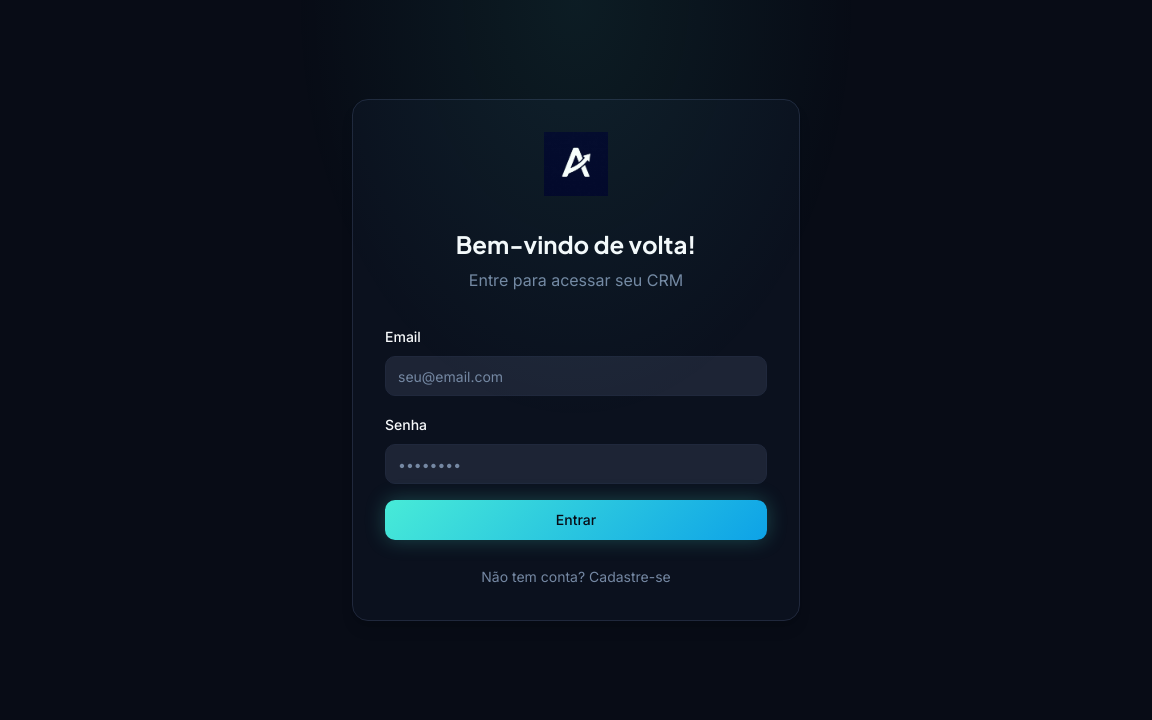
Scenario: Login return to client › keeps the client destination after submitting login
Type "admin@example.test" into the field labelled "Email" at (576, 376), box [385,356,767,396]
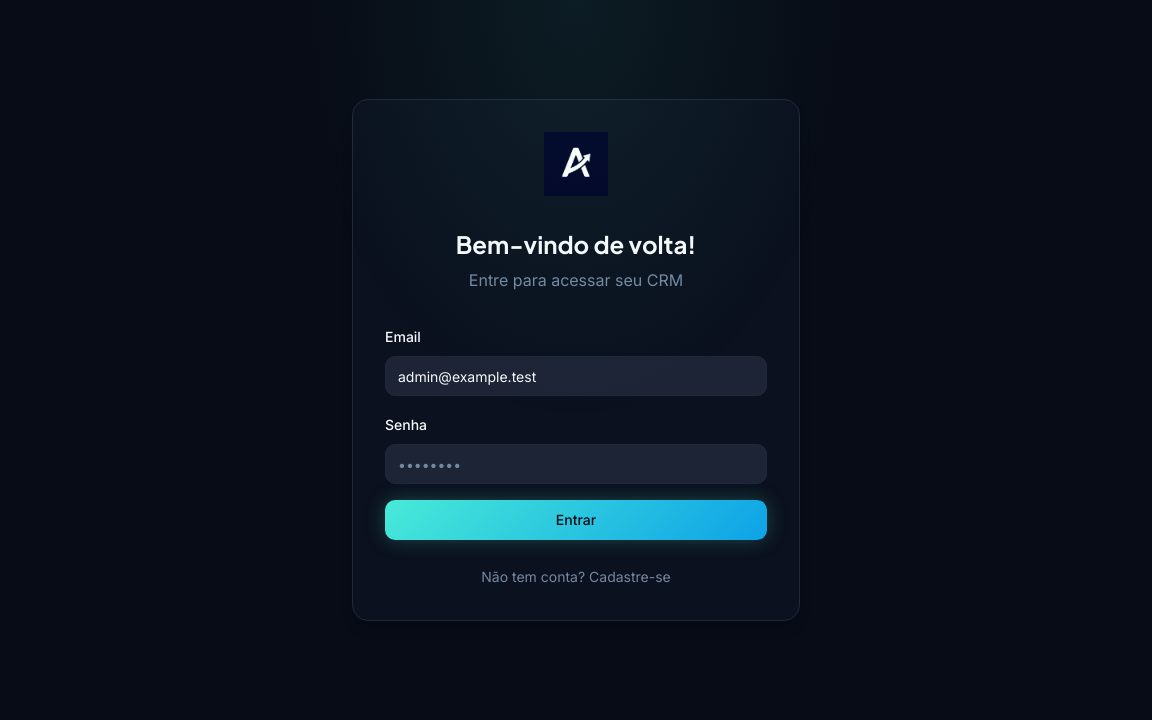
Type "example-password" into the password field labelled "Senha" at (576, 464), box [385,444,767,484]
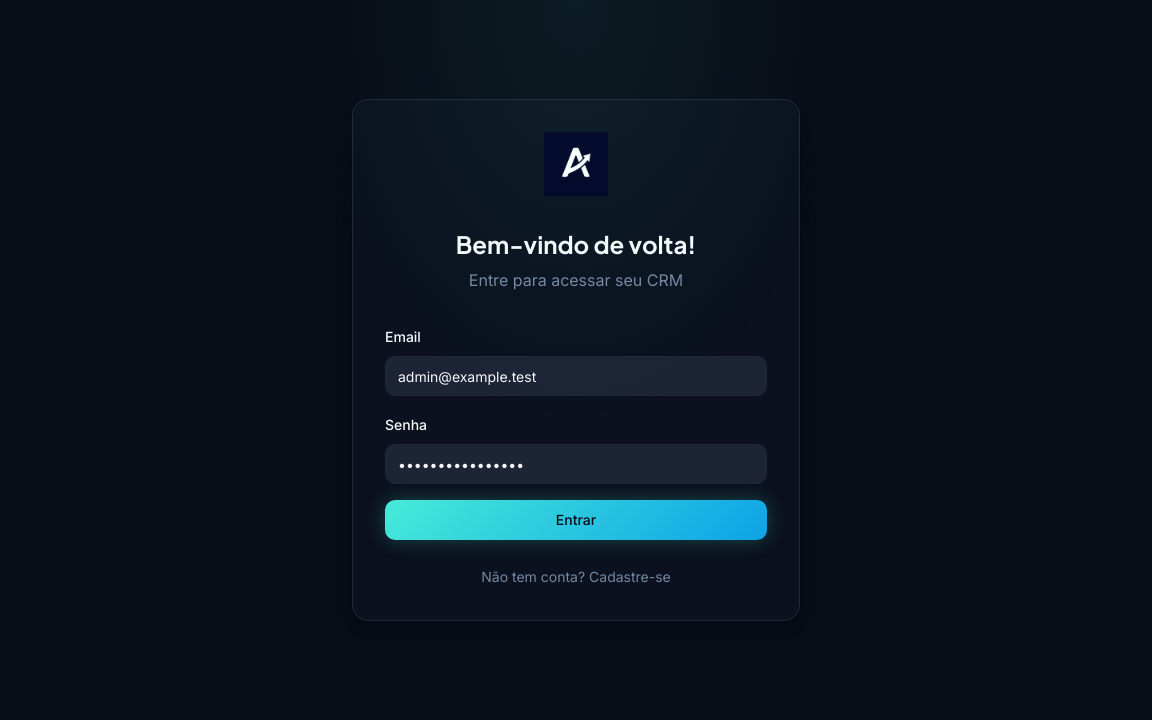
Submit the form labelled "Email", box [385,324,767,540]
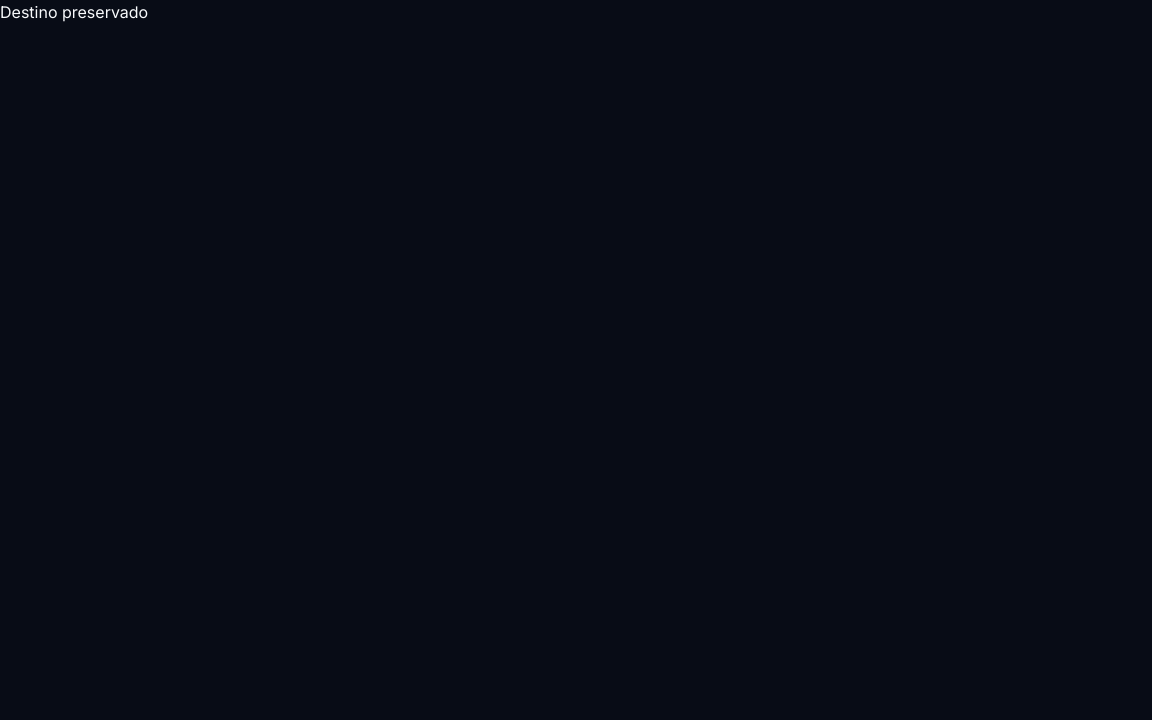
Now the text "Destino preservado" is shown, box [0,2,148,22]
